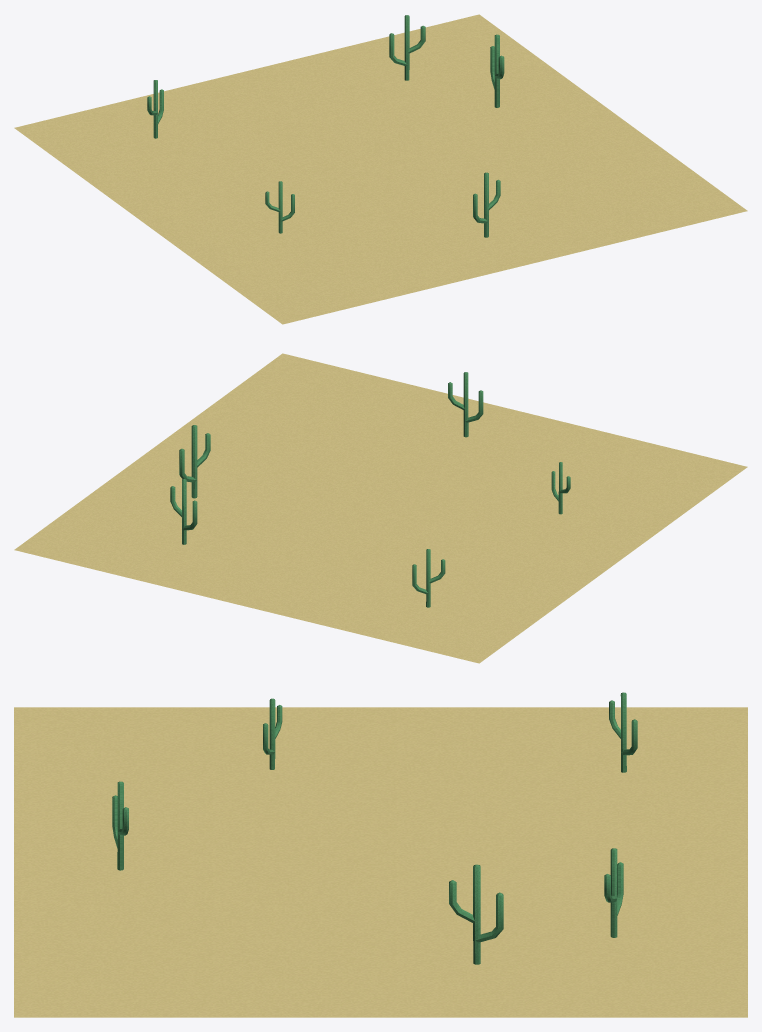
Rendered from env_desert.fbx.
3 renders of one model, top to bottom at view 1: azimuth 30°, elevation 25°; view 2: azimuth 150°, elevation 25°; view 3: azimuth 270°, elevation 25°, orthographic. The views are drawn at different scales.
Parts seen in each view (by area): view 1: ground, cactus05, cactus03, cactus04, cactus01; view 2: ground, cactus03, cactus04, cactus05, cactus01; view 3: ground, cactus03, cactus05, cactus04, cactus01, cactus02.
Boxes of the visible parts, bbox=[...] form: ground: bbox=[14, 14, 747, 324]; cactus05: bbox=[389, 15, 425, 80]; cactus03: bbox=[490, 34, 504, 107]; cactus04: bbox=[473, 172, 500, 237]; cactus01: bbox=[147, 80, 163, 138]; ground: bbox=[14, 353, 747, 663]; cactus03: bbox=[179, 425, 210, 498]; cactus04: bbox=[448, 372, 483, 437]; cactus05: bbox=[170, 479, 197, 544]; cactus01: bbox=[412, 549, 445, 607]; ground: bbox=[14, 707, 747, 1017]; cactus03: bbox=[449, 864, 503, 964]; cactus05: bbox=[604, 848, 623, 937]; cactus04: bbox=[112, 781, 128, 870]; cactus01: bbox=[609, 692, 637, 772]; cactus02: bbox=[263, 698, 282, 769].
Size of the model in its own units: 1200 by 178 by 1200.
